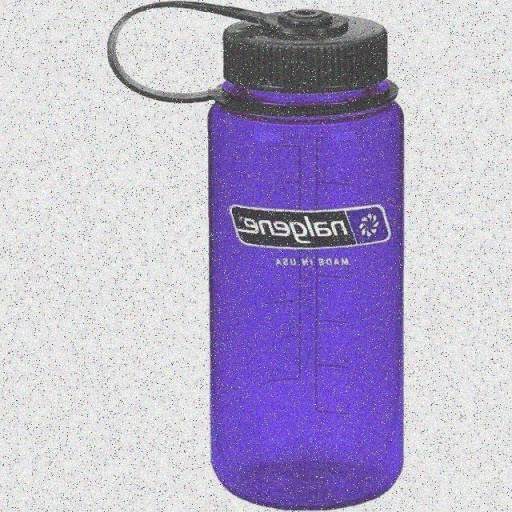bottle: (207, 6, 405, 512)
